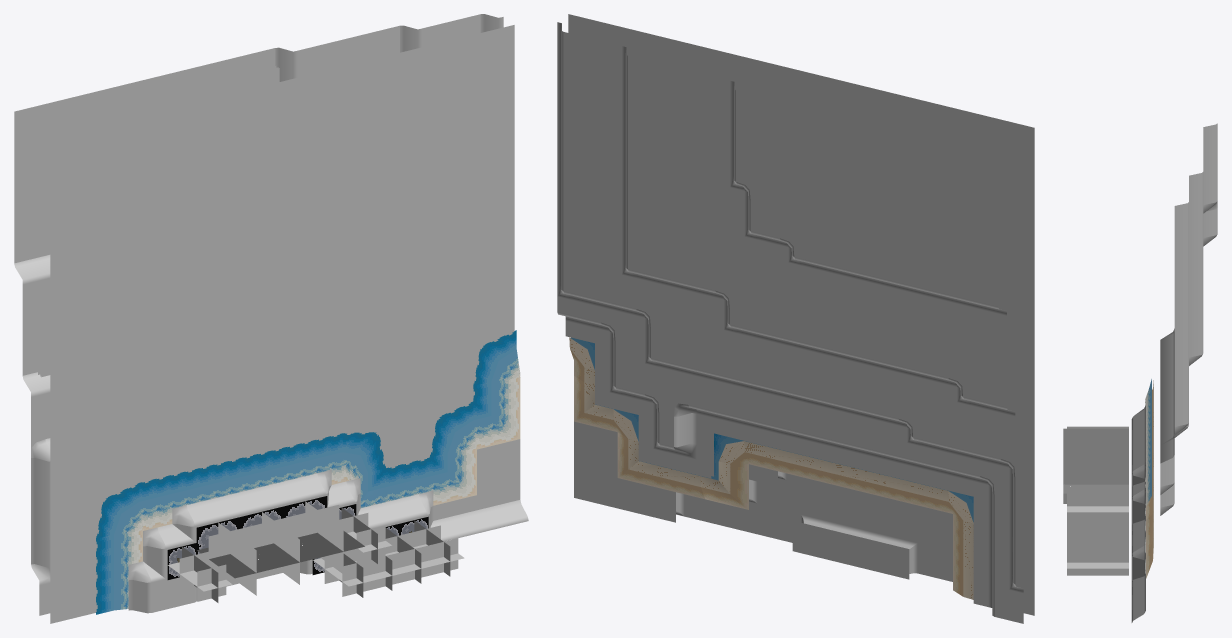
File: Asteria_20_22.obj
3 renders of one model, left to right at view 1: azimuth 30°, elevation 25°; view 2: azimuth 150°, elevation 25°; view 3: azimuth 270°, elevation 25°, orthographic. The views are drawn at different scales.
Parts seen in each view (by area): view 1: map; view 2: map; view 3: map.
Boxes of the visible parts, x1,y1,x2,y2 form: map: (14, 14, 528, 623); map: (557, 14, 1034, 623); map: (1063, 123, 1217, 622).
Bounding box in the file's own units: 32 × 32 × 10.75.
